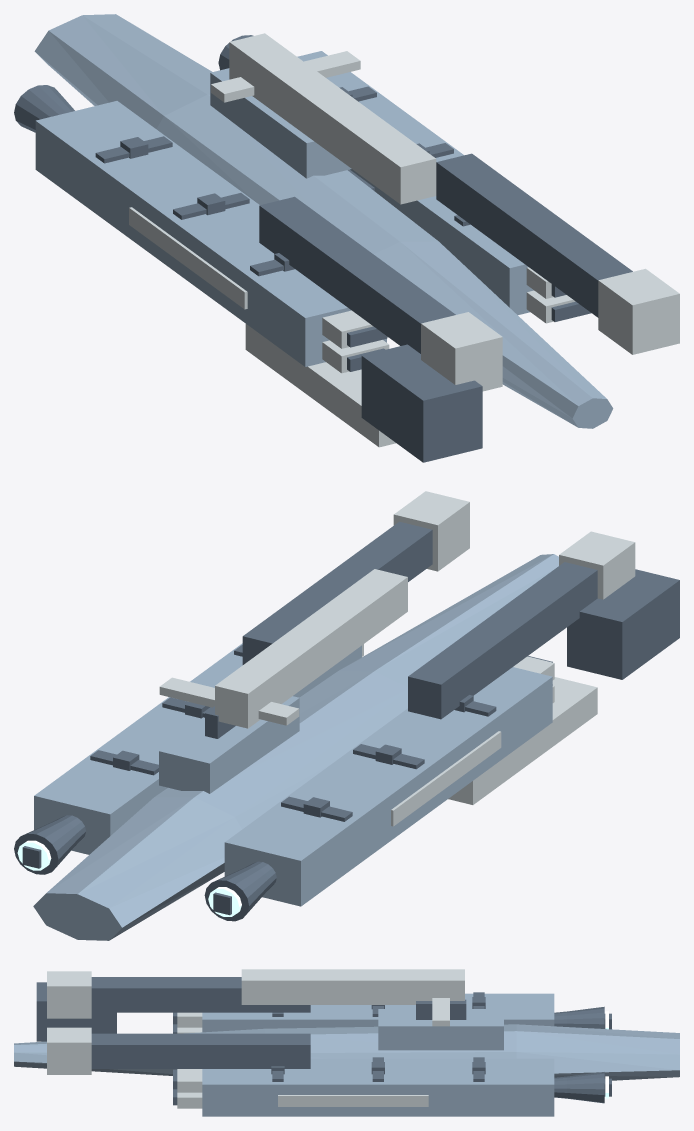
The picture shows the model from 3 angles, top to bottom: view 1: azimuth 30°, elevation 25°; view 2: azimuth 150°, elevation 25°; view 3: azimuth 270°, elevation 25°; orthographic projection. The views are drawn at different scales.
Size of the model in its own units: 7.38 by 4.4 by 21.9.
